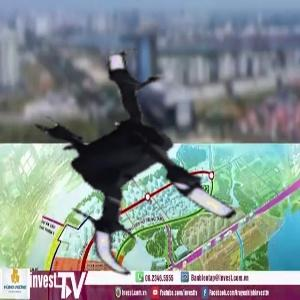drone: (6, 32, 254, 280)
